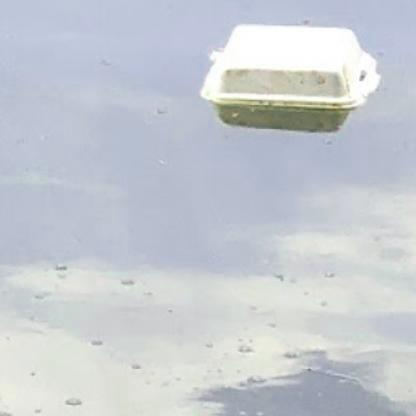Plastic: (195, 20, 383, 116)
